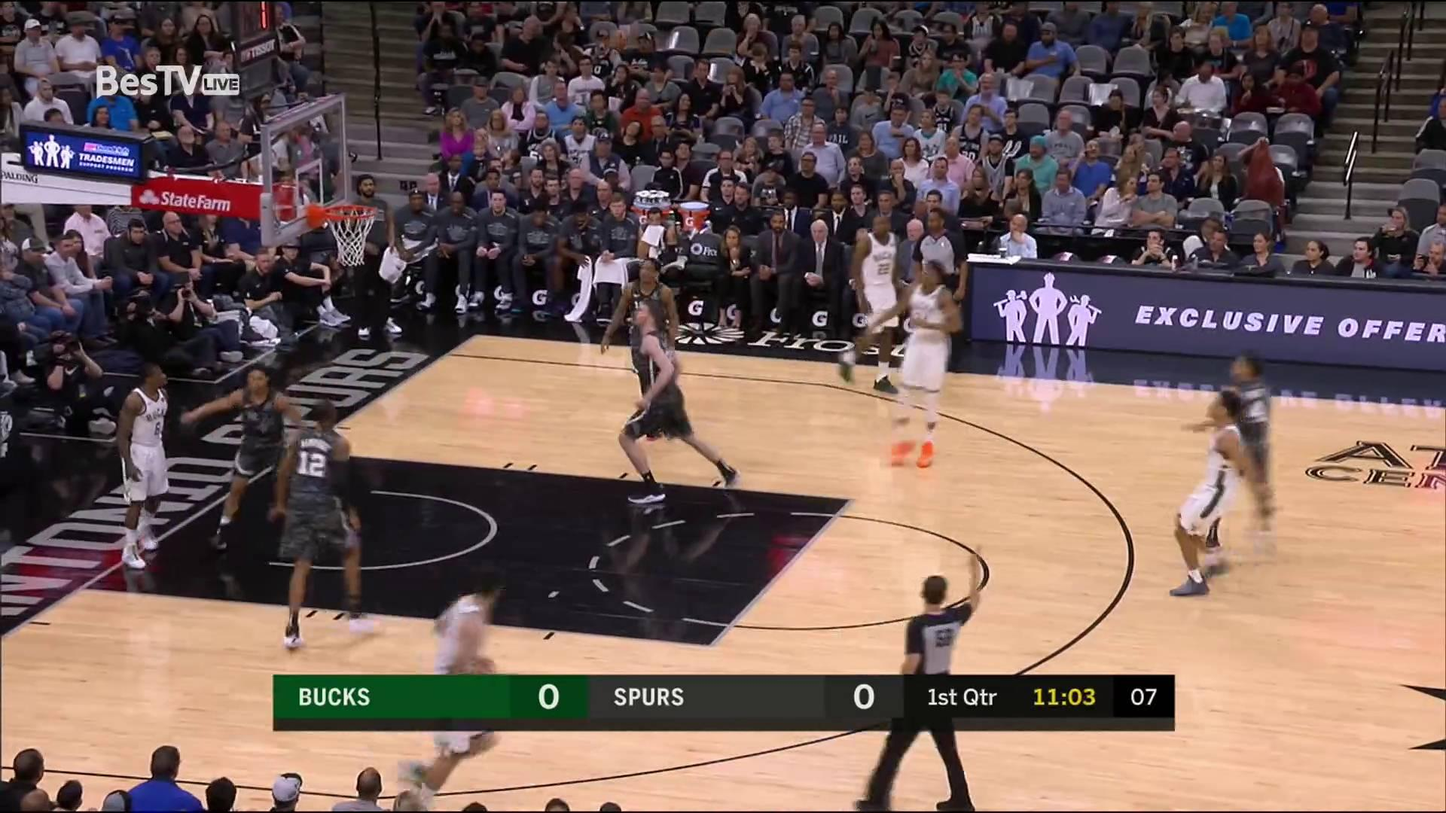basketball: (605, 24, 632, 51)
